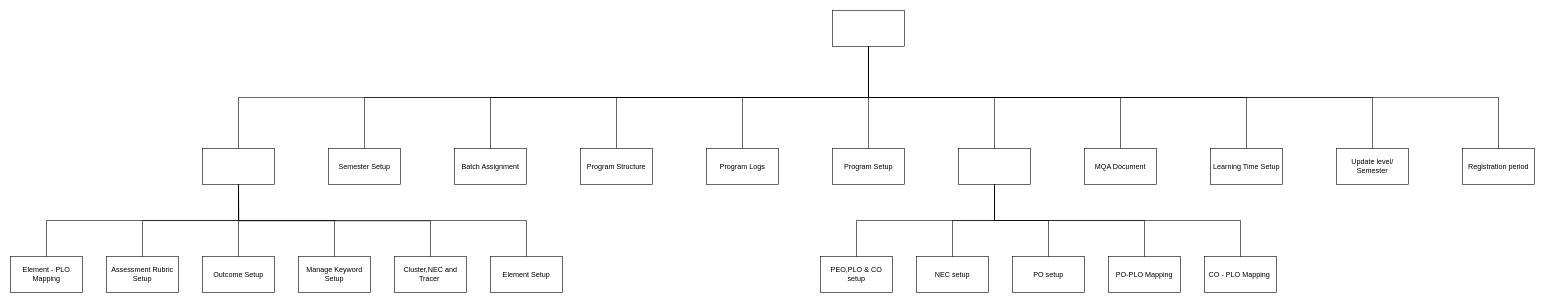
Image size: 1545x303. Some labels were removed from this diagram. The shapes that lost their labels are listed below. From the top down, each one's centre as x and y in pixels, then its label:
the point at 868,28: Program
the point at 238,166: sPNK
the point at 994,166: Research Program Setup
